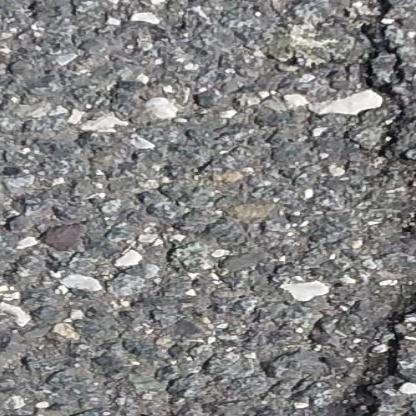Cracks: (355, 0, 416, 205), (335, 278, 416, 416)
